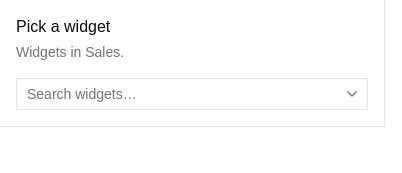
Test: WidgetPicker combobox › shows the combobox empty state for a search with no matches (widgets do exist)
The width and height of the screenshot is (402, 173).
In the dropdown labelled "Search widgets": (178, 94) [17,78,340,110], type "nonexistent"
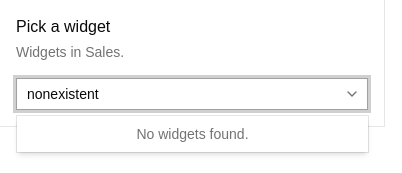
Check: the text "No widgets found." is shown, box [136,126,249,142]
